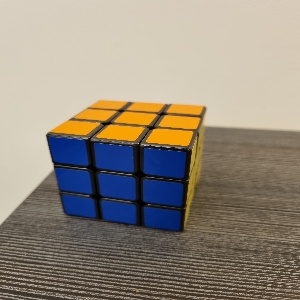cube: (46, 100, 208, 232)
